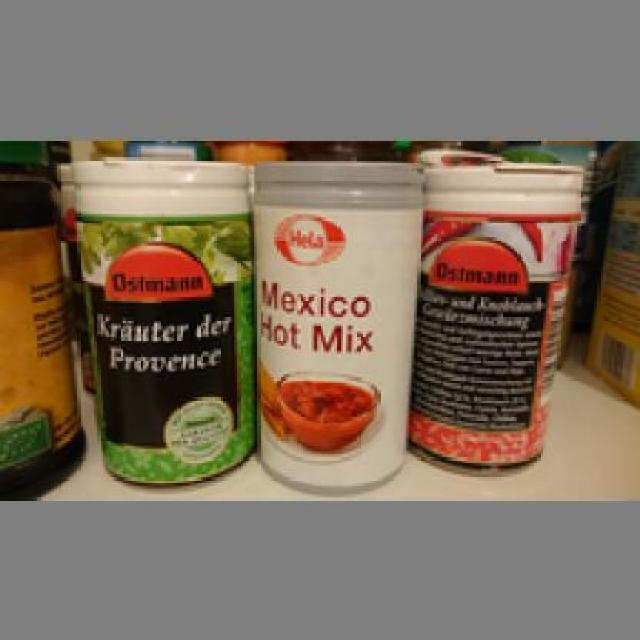Spices: (65, 153, 258, 490), (248, 155, 422, 494), (403, 162, 580, 478)
